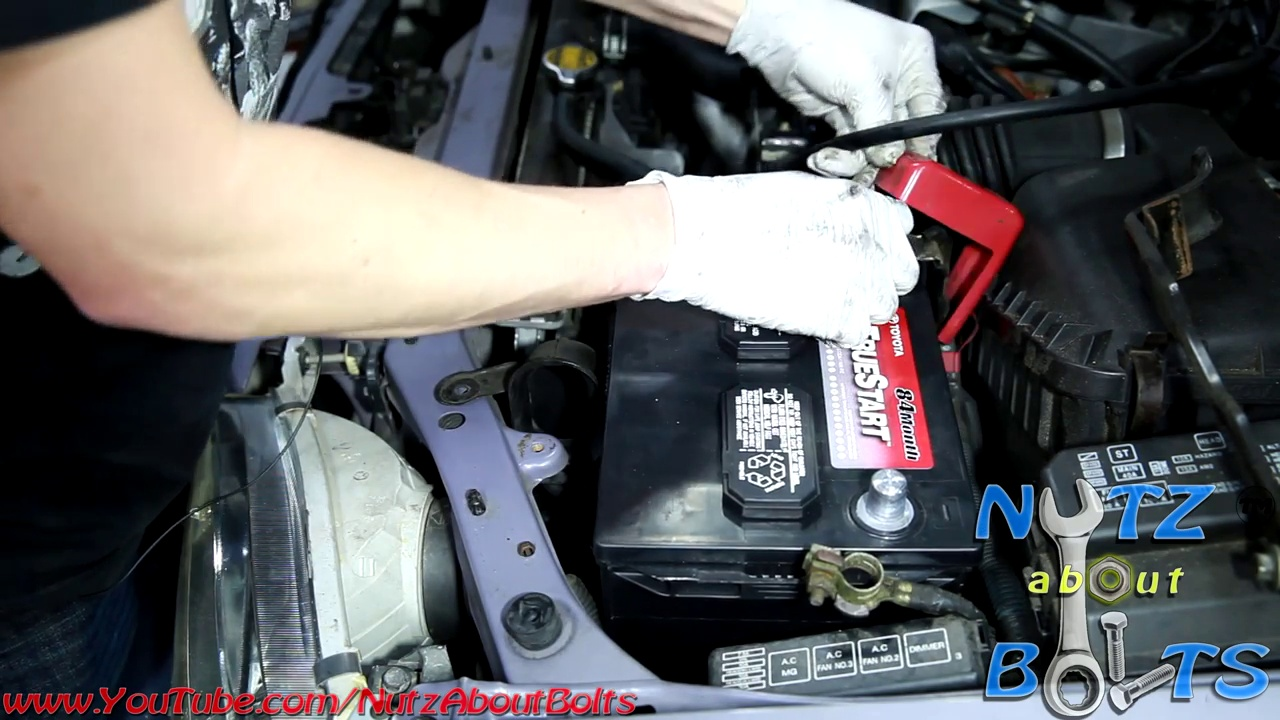battery: (617, 161, 997, 589)
neg_disconnected: (822, 440, 925, 617)
pos_touched: (777, 72, 1036, 365)
